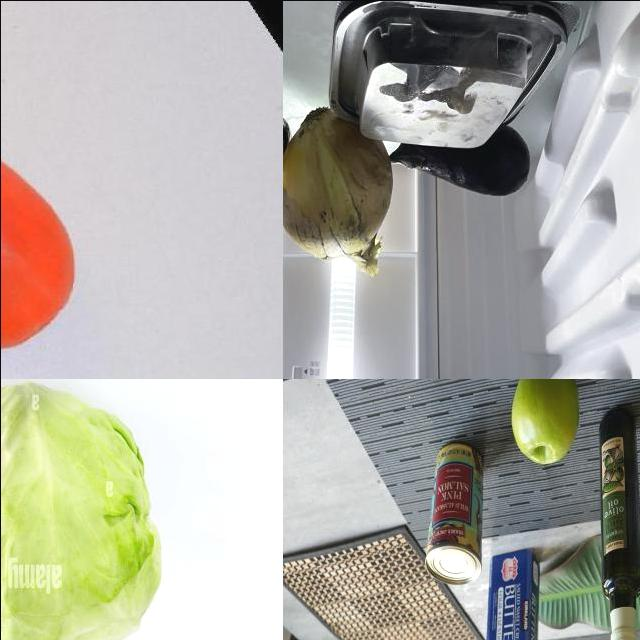cabbage: (1, 380, 164, 640)
eggplant: (387, 112, 530, 198)
onion: (283, 86, 391, 273)
tomato: (1, 120, 99, 366)
